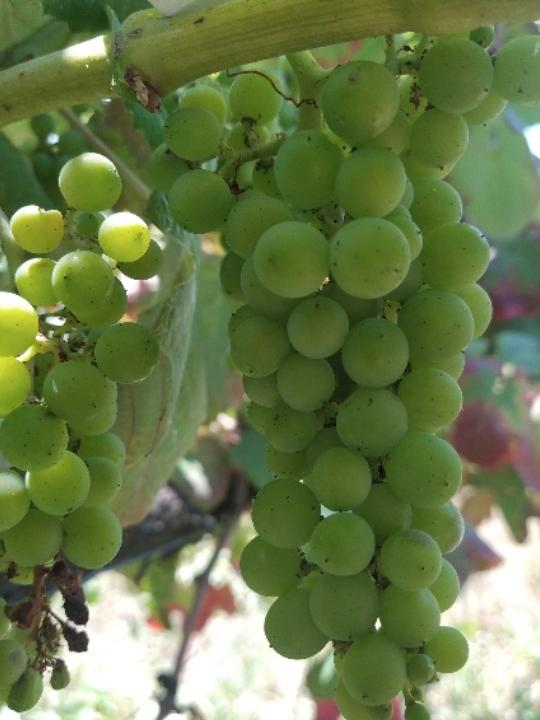grape: (145, 23, 540, 720), (0, 153, 162, 716)
